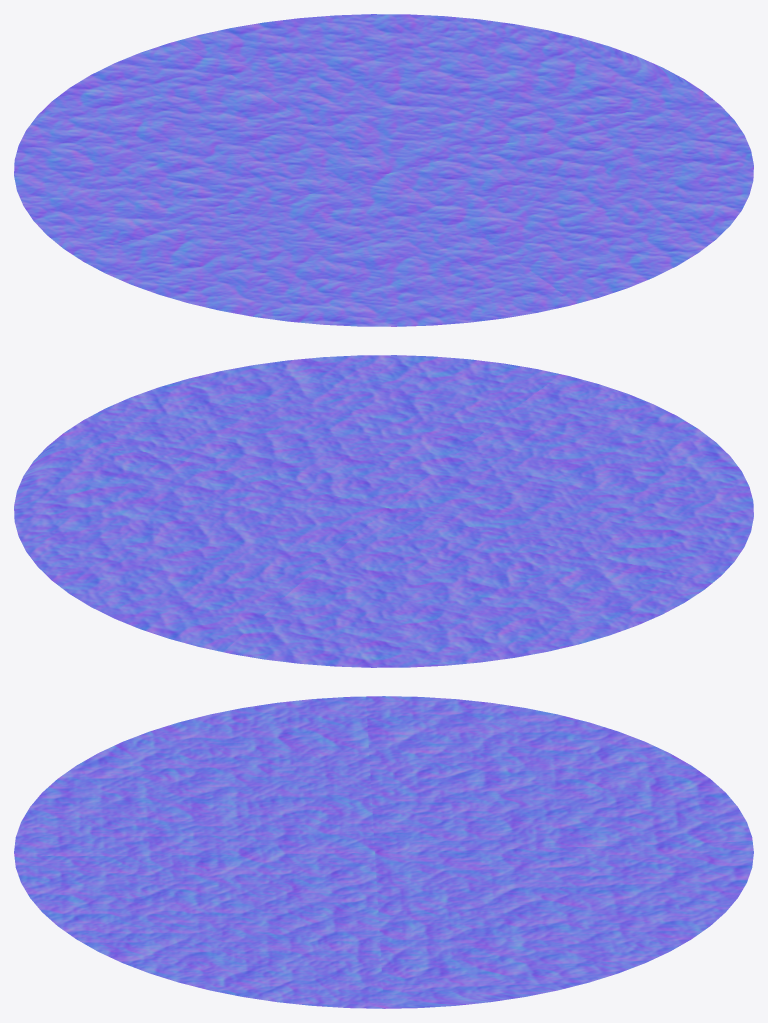
The model's file is disk.obj.
3 views of the same model, one above another, from view 1: azimuth 30°, elevation 25°; view 2: azimuth 150°, elevation 25°; view 3: azimuth 270°, elevation 25° (orthographic).
Parts seen in each view (by area): view 1: disk; view 2: disk; view 3: disk.
Part boxes in pixels (x1,y1,x2,y2): disk: (14, 14, 753, 326); disk: (14, 355, 753, 667); disk: (14, 696, 753, 1008).
Size of the model in its own units: 2 by 0 by 2.
Materials: 1 (1 with a texture image).
